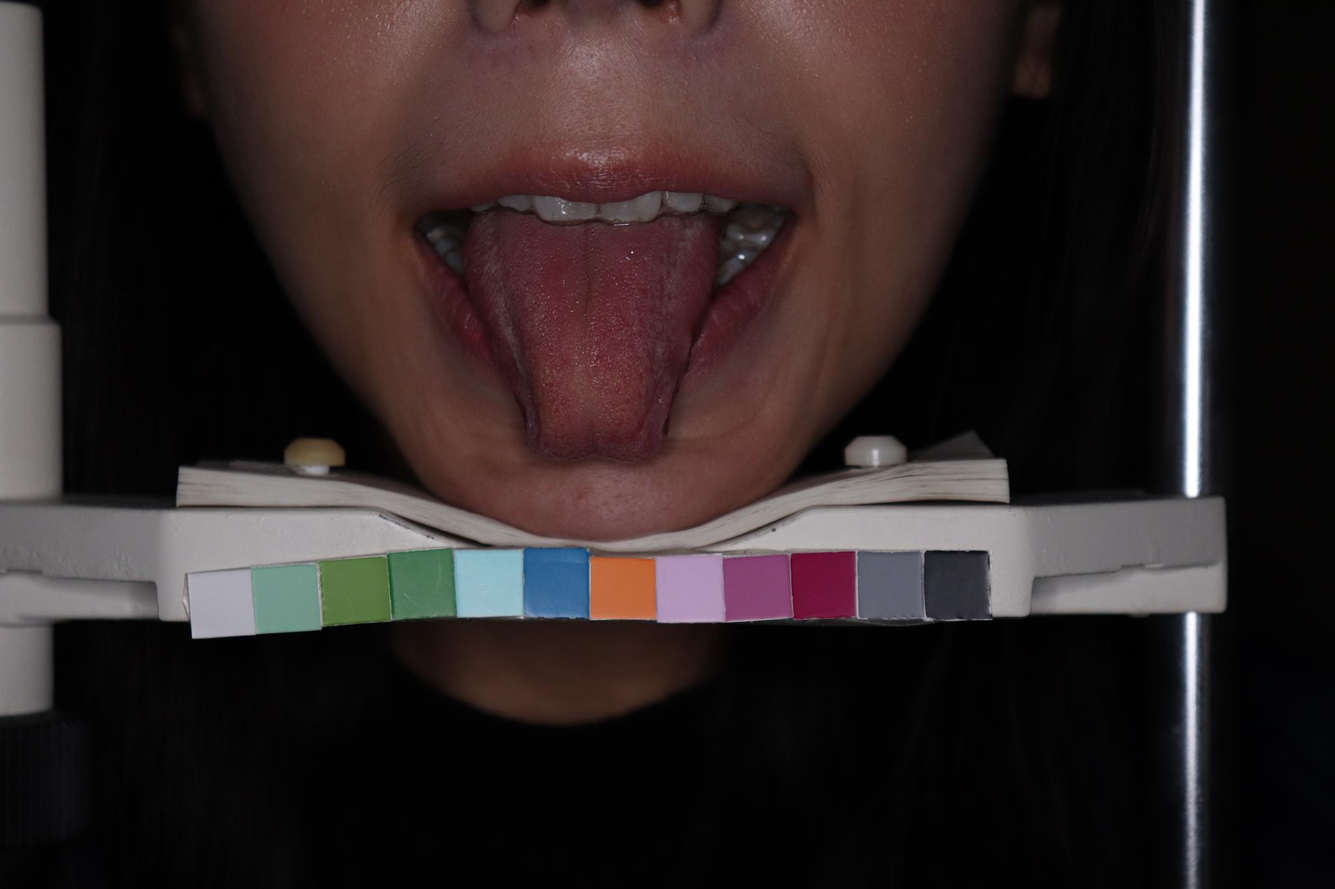baitaishe: (465, 218, 720, 461)
gandanao: (475, 266, 537, 404), (643, 255, 706, 387)
